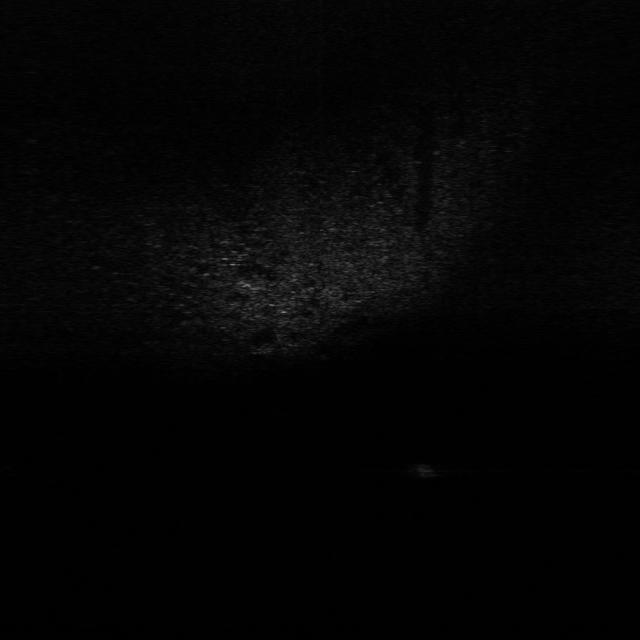cylinder: (412, 459, 436, 481)
